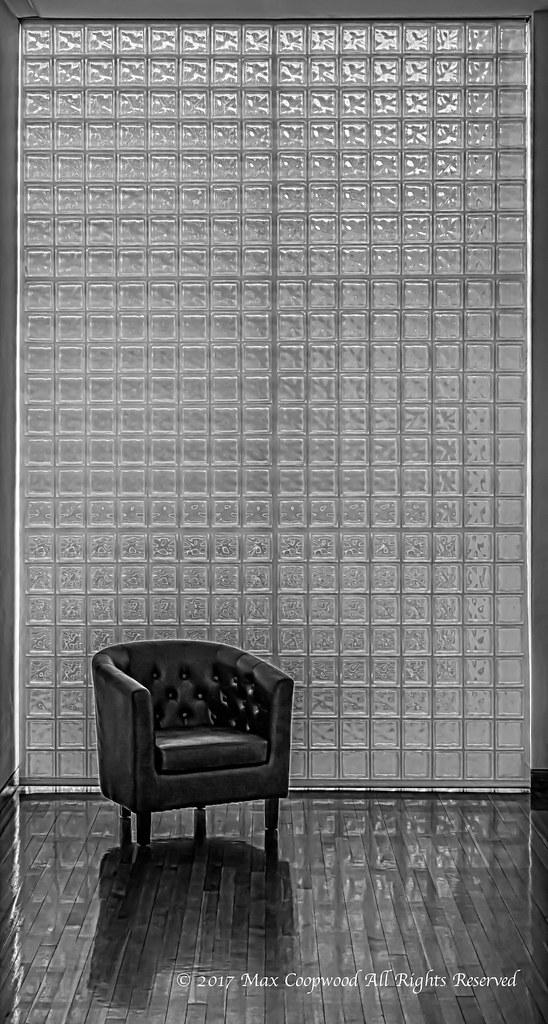chair: (91, 638, 295, 863)
